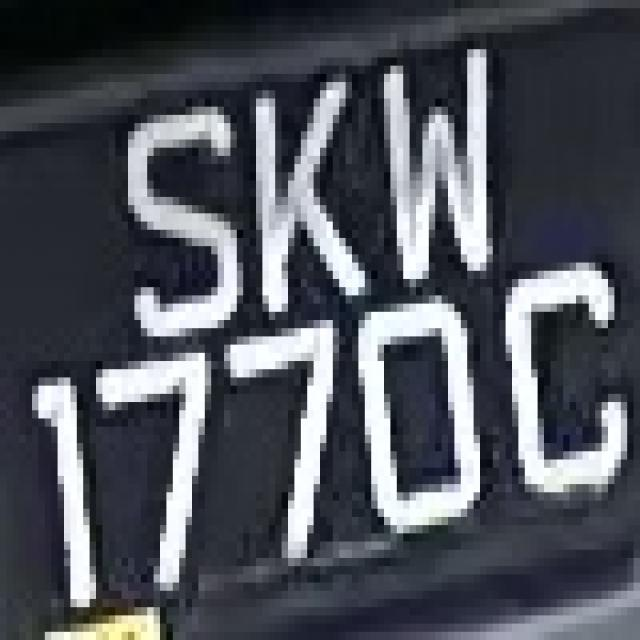0: (333, 288, 493, 574)
1: (13, 328, 109, 632)
7: (70, 312, 224, 599), (212, 304, 358, 582)
C: (474, 230, 627, 508)
K: (244, 49, 358, 304)
S: (96, 106, 243, 352)
W: (365, 33, 518, 295)
